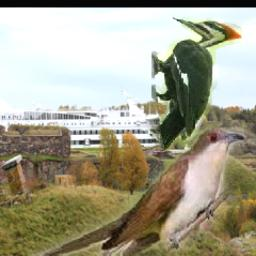Cuckoo: (27, 127, 244, 256)
Woodpecker: (153, 17, 243, 150)
